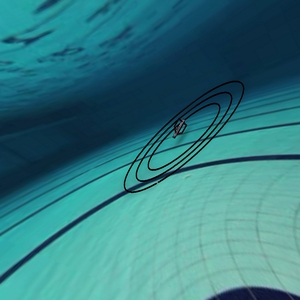circle: (120, 70, 249, 212)
submarine: (166, 116, 196, 145)
